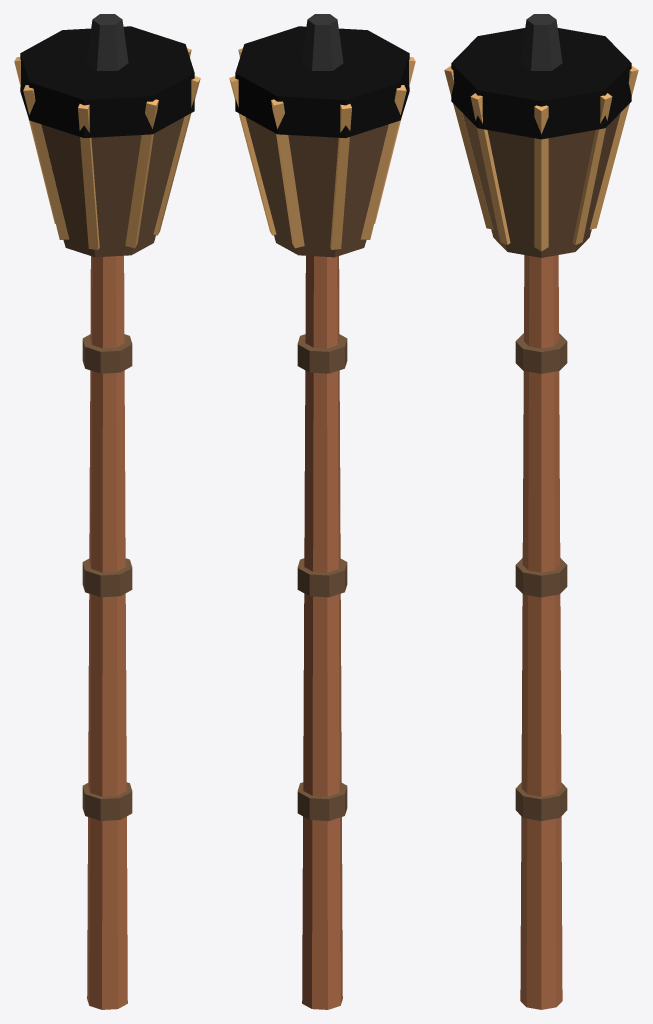
File: TikiTorch.obj
The picture shows the model from 3 angles, left to right: view 1: azimuth 30°, elevation 25°; view 2: azimuth 150°, elevation 25°; view 3: azimuth 270°, elevation 25°; orthographic projection.
Parts seen in each view (by area): view 1: TikiTorch; view 2: TikiTorch; view 3: TikiTorch.
Part boxes in pixels (left/top/right/bottom): TikiTorch: left=14, top=14, right=200, bottom=1009; TikiTorch: left=229, top=14, right=415, bottom=1009; TikiTorch: left=444, top=14, right=638, bottom=1009.
Size of the model in its own units: 0.3233 by 1.8 by 0.3233.
1 material, 1 textured.
